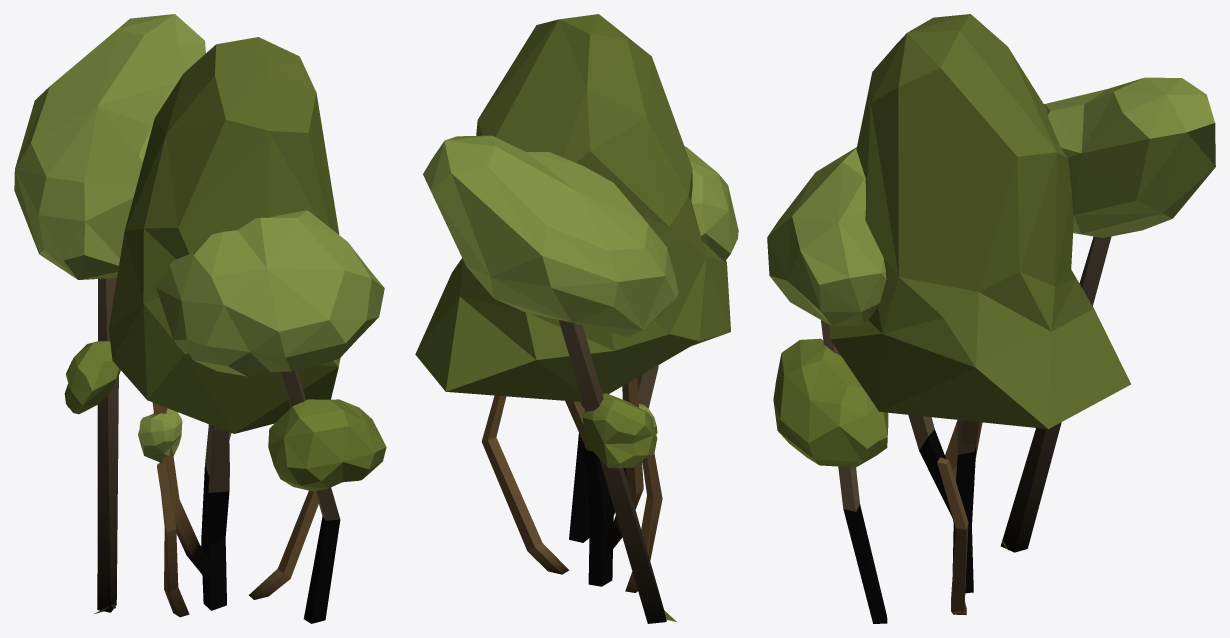
Rendered from EA03_Nature_Bush_01b.glb.
3 views of the same model, side by side, from view 1: azimuth 30°, elevation 25°; view 2: azimuth 150°, elevation 25°; view 3: azimuth 270°, elevation 25° (orthographic). The views are drawn at different scales.
Parts seen in each view (by area): view 1: EA03_Nature_Bush_01b; view 2: EA03_Nature_Bush_01b; view 3: EA03_Nature_Bush_01b.
Boxes of the visible parts, left/top/right/bottom form: EA03_Nature_Bush_01b: left=14, top=14, right=386, bottom=623; EA03_Nature_Bush_01b: left=415, top=14, right=738, bottom=623; EA03_Nature_Bush_01b: left=767, top=14, right=1215, bottom=623.
Size of the model in its own units: 1.99 by 3.96 by 2.77.
Materials: 1 (1 with a texture image).
